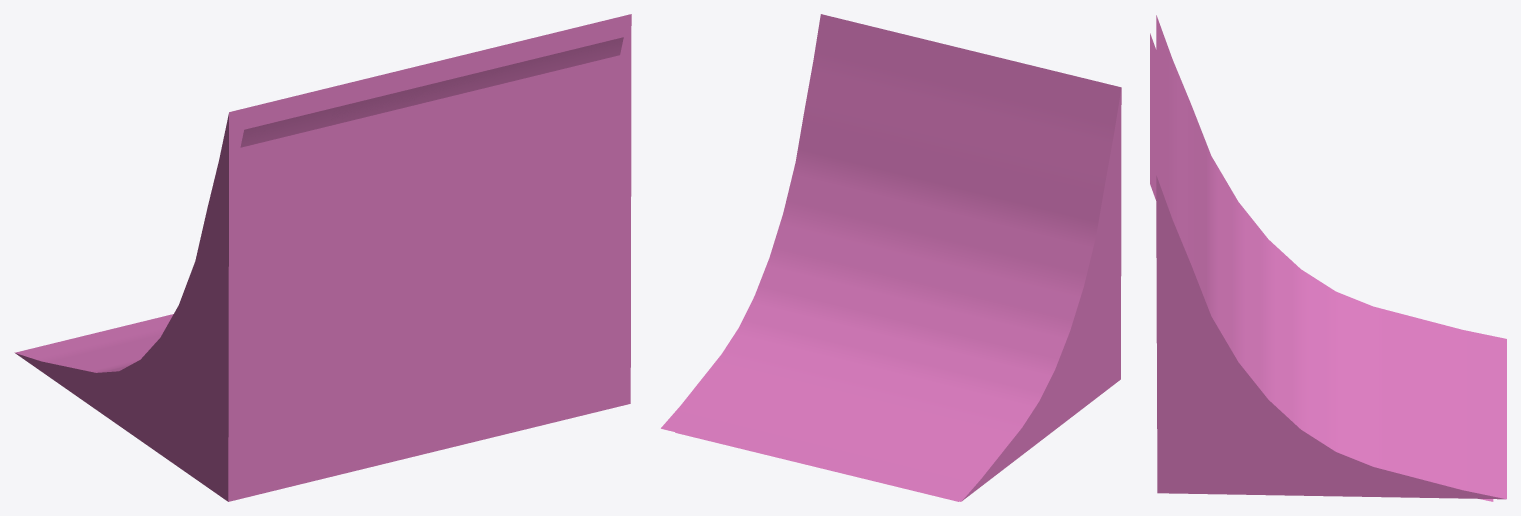
Rendered from rampa_solidify.glb.
3 renders of one model, left to right at view 1: azimuth 30°, elevation 25°; view 2: azimuth 150°, elevation 25°; view 3: azimuth 270°, elevation 25°, orthographic. The views are drawn at different scales.
Visible parts, largest first — view 1: Plane.003; view 2: Plane.003; view 3: Plane.003.
Part boxes in pixels (box(x1,y1,x2,y2)): Plane.003: box(14, 14, 631, 501); Plane.003: box(661, 14, 1121, 501); Plane.003: box(1150, 15, 1506, 501).
Bounding box in the file's own units: 2.12 × 2.05 × 2.
